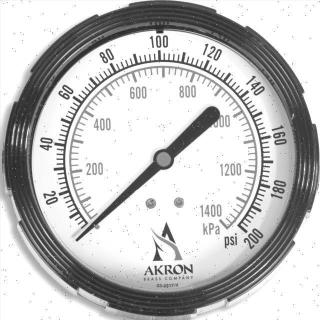gauge: (0, 0, 320, 320), (66, 210, 98, 262), (236, 210, 259, 253), (153, 148, 175, 170), (71, 229, 89, 246)
